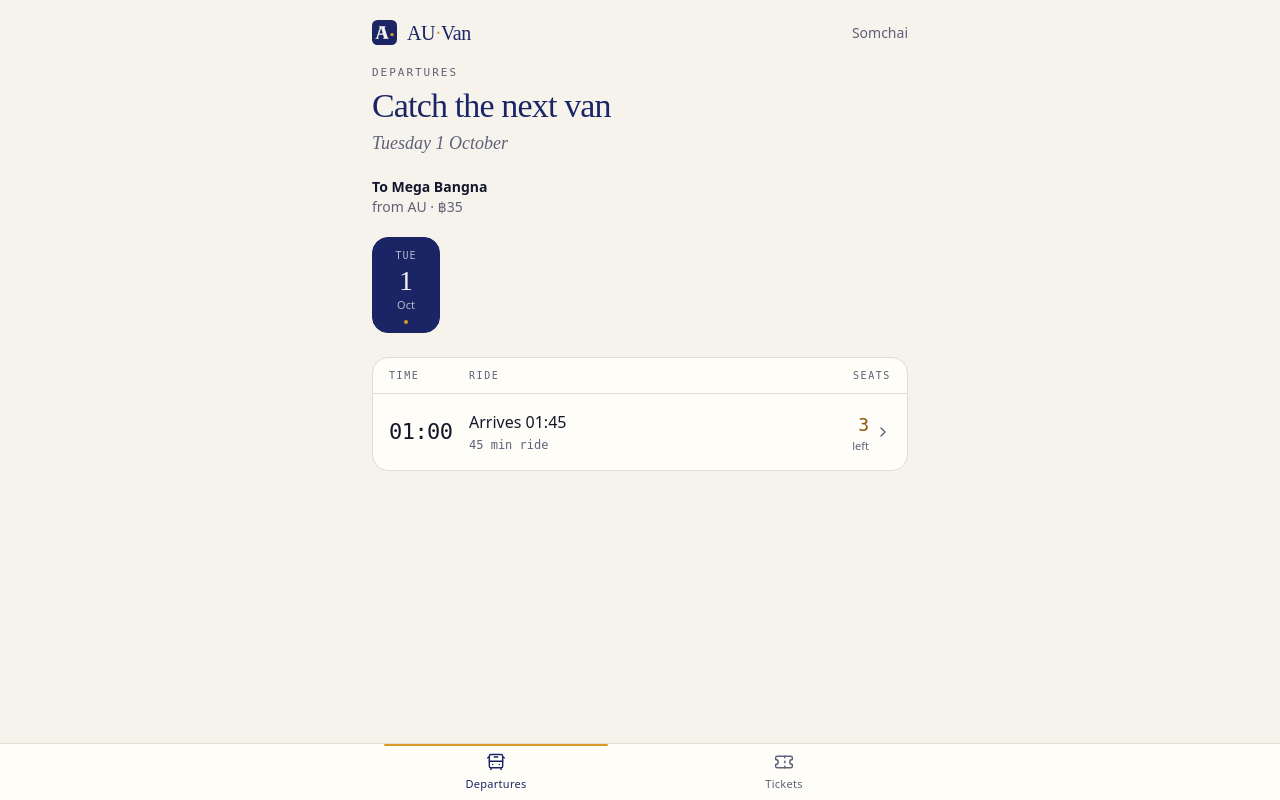
Student app › explains a lost seat race and refreshes the map instead of failing silently
Click the button with aria-label "Mega Bangna": click(421, 432) [373,394,907,470]
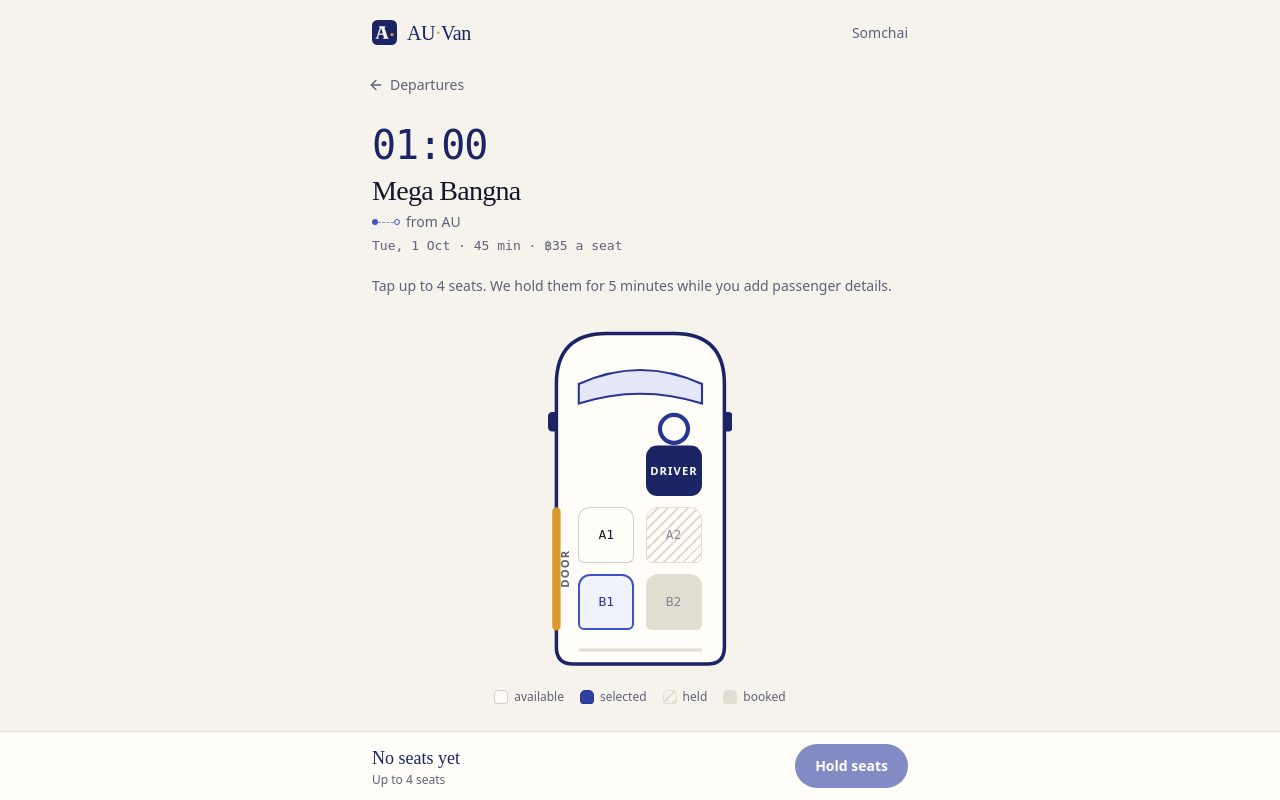
Click the button named "Seat A1, available": click(606, 535) [578,507,634,563]
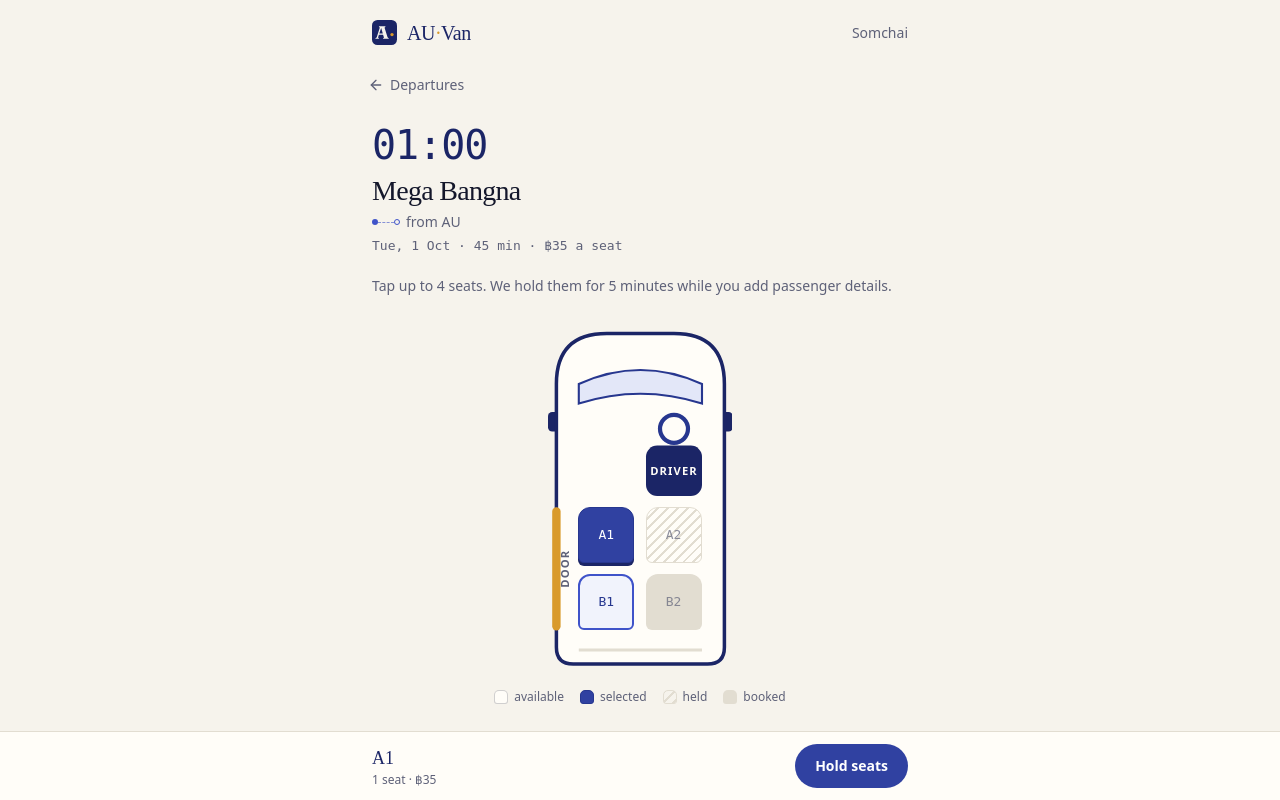
Click the button "Hold seats": click(852, 766) [795,744,908,788]
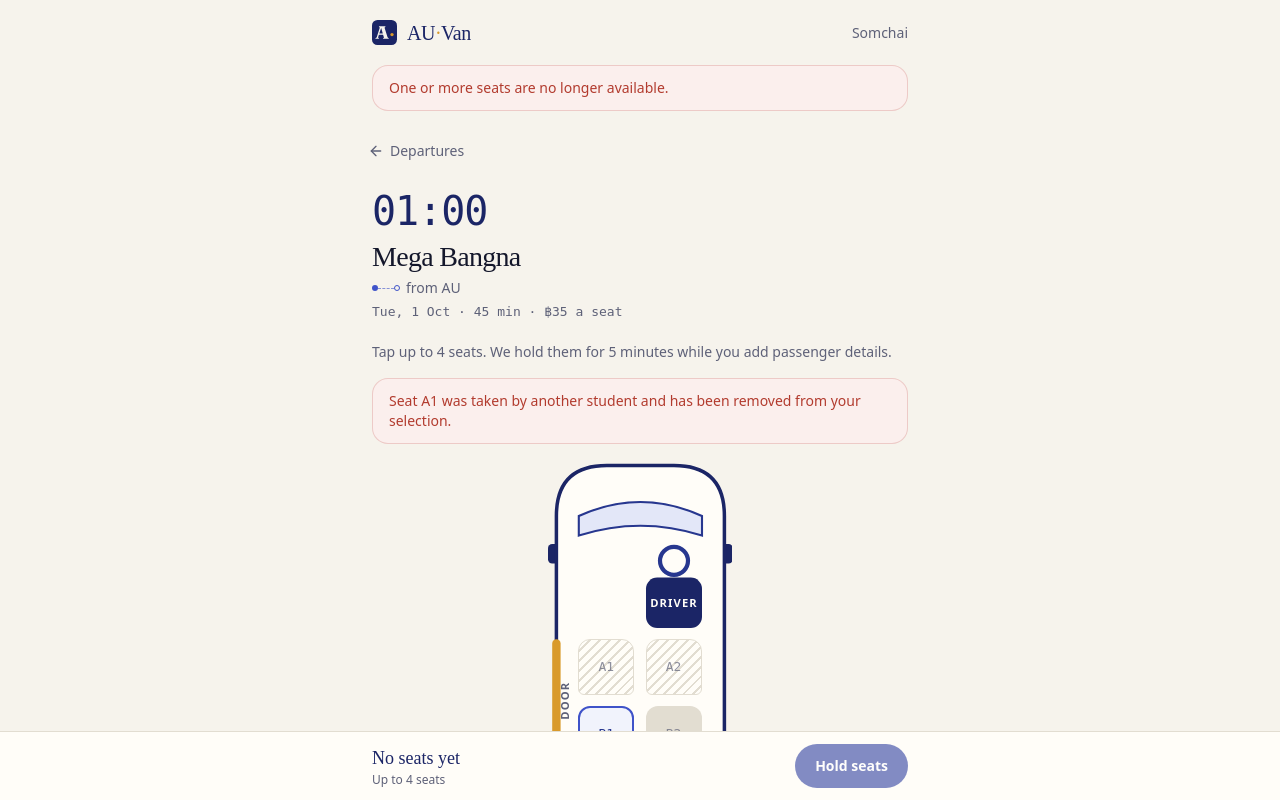
Expected: the text "One or more seats are no longer available." is shown, [372,65,908,111]
Expected: the button named "Seat A1, held by someone else" is shown, [578,639,634,695]
Expected: the text "No seats yet" is shown, [372,748,460,768]
